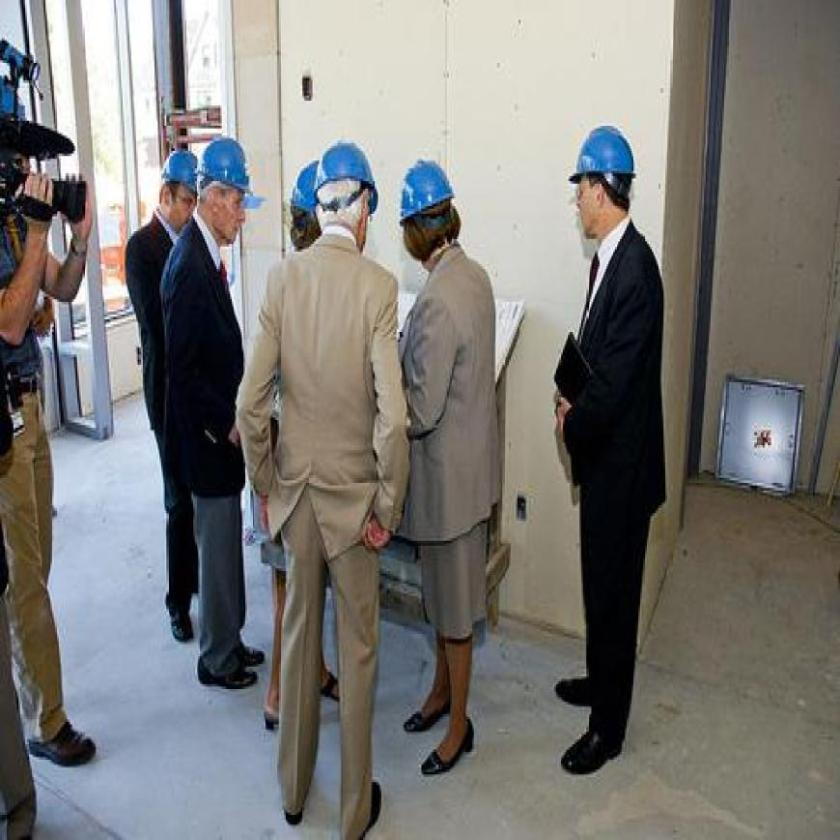Con_casco: (317, 131, 384, 258), (572, 121, 636, 236), (198, 135, 254, 264), (396, 159, 456, 274), (155, 151, 203, 234), (288, 160, 323, 252)
